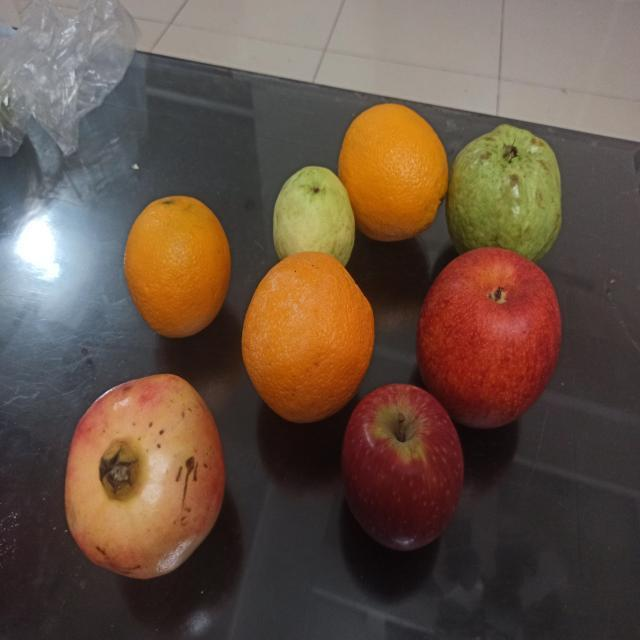apple: (416, 246, 562, 430), (348, 383, 462, 550)
